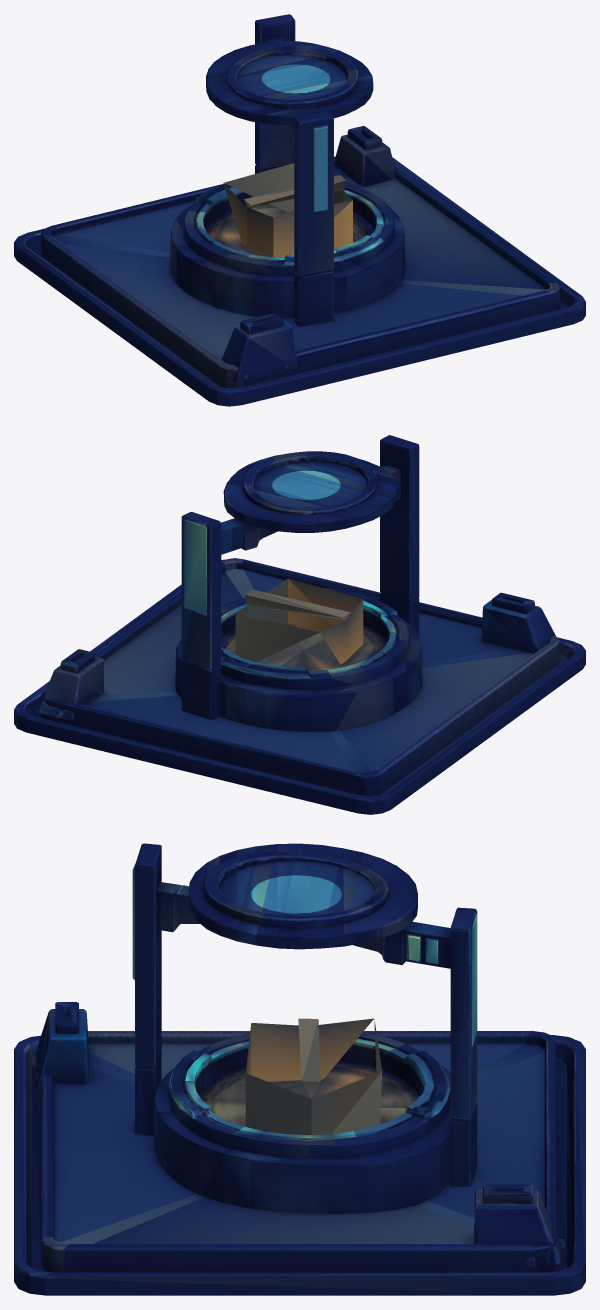
Rendered from inspection-dock.glb.
3 renders of one model, top to bottom at view 1: azimuth 30°, elevation 25°; view 2: azimuth 150°, elevation 25°; view 3: azimuth 270°, elevation 25°, orthographic. The views are drawn at different scales.
Parts seen in each view (by area): view 1: tripo_node_d986df9a-3d0e-40a8-8fe7-ecc76857cb38; view 2: tripo_node_d986df9a-3d0e-40a8-8fe7-ecc76857cb38; view 3: tripo_node_d986df9a-3d0e-40a8-8fe7-ecc76857cb38.
Part boxes in pixels (box(x1,y1,x2,y2)): tripo_node_d986df9a-3d0e-40a8-8fe7-ecc76857cb38: box(14, 14, 585, 406); tripo_node_d986df9a-3d0e-40a8-8fe7-ecc76857cb38: box(14, 435, 585, 814); tripo_node_d986df9a-3d0e-40a8-8fe7-ecc76857cb38: box(14, 843, 585, 1295).
Bounding box in the file's own units: 0.998 × 0.5645 × 0.998.
Materials: 1 (1 with a texture image).
